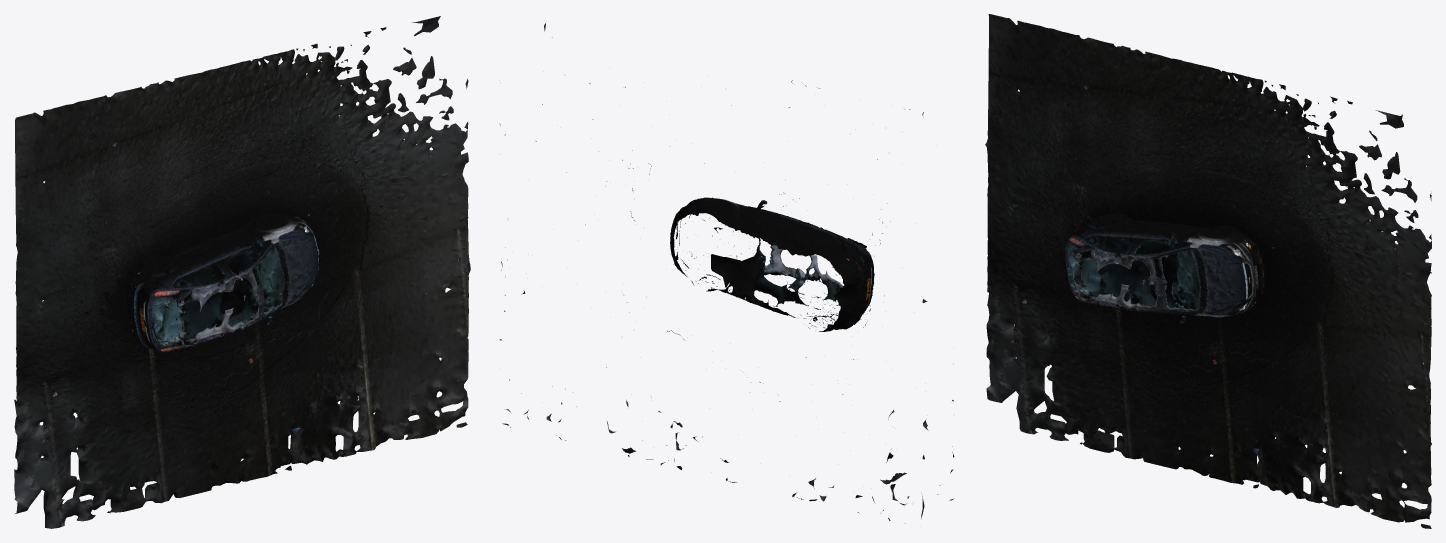
The model's file is focus_st.glb.
3 renders of one model, left to right at view 1: azimuth 30°, elevation 25°; view 2: azimuth 150°, elevation 25°; view 3: azimuth 330°, elevation 25°, orthographic. The views are drawn at different scales.
Size of the model in its own units: 39.81 by 35.07 by 5.96.
Materials: 1 (1 with a texture image).
